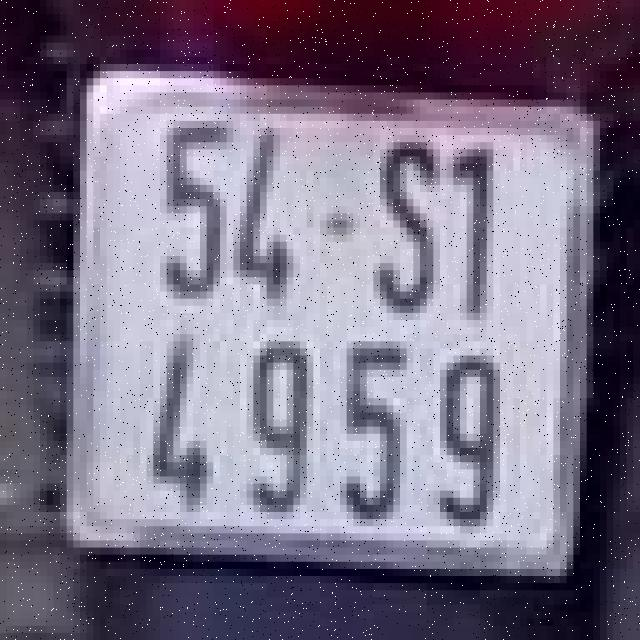1: (440, 124, 507, 323)
4: (133, 323, 220, 530), (230, 114, 297, 313)
5: (336, 331, 416, 537), (160, 114, 233, 313)
9: (423, 345, 517, 530), (240, 324, 320, 516)
S: (367, 132, 440, 324)
